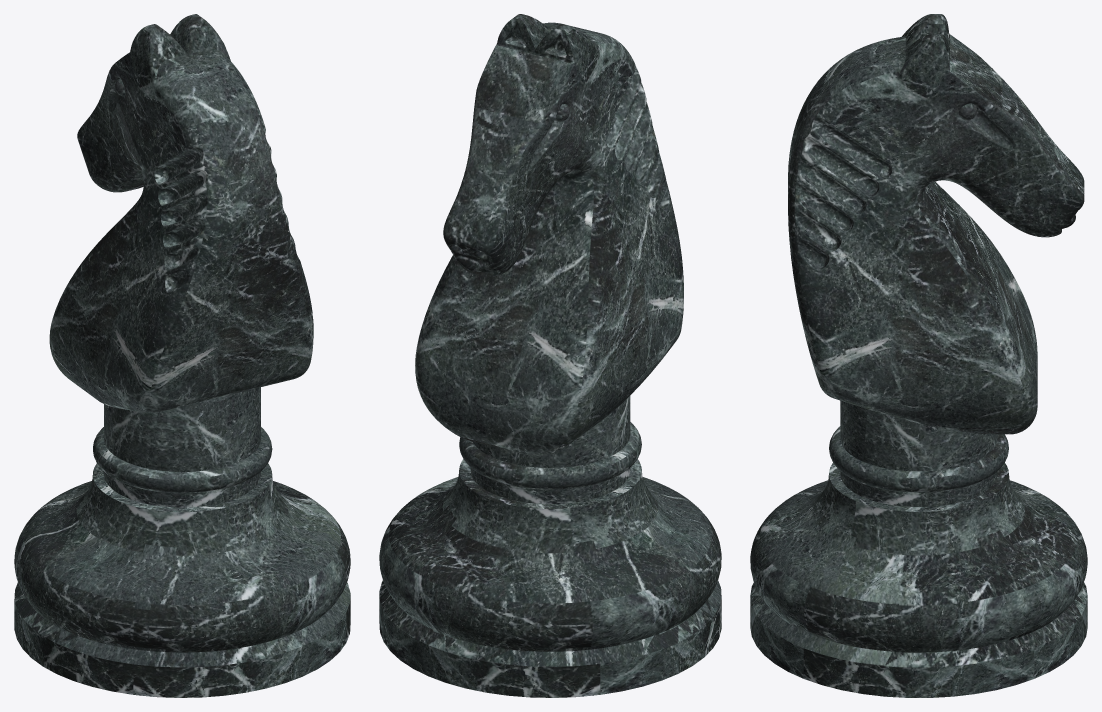
Rendered from Black-Knight.glb.
3 renders of one model, left to right at view 1: azimuth 30°, elevation 25°; view 2: azimuth 150°, elevation 25°; view 3: azimuth 270°, elevation 25°, orthographic.
Parts seen in each view (by area): view 1: ASSET_Joined; view 2: ASSET_Joined; view 3: ASSET_Joined.
Part boxes in pixels (x1,y1,x2,y2): ASSET_Joined: (14,14,350,697); ASSET_Joined: (379,14,721,697); ASSET_Joined: (750,14,1087,697).
Size of the model in its own units: 30.49 by 60 by 30.51.
1 material, 1 textured.
